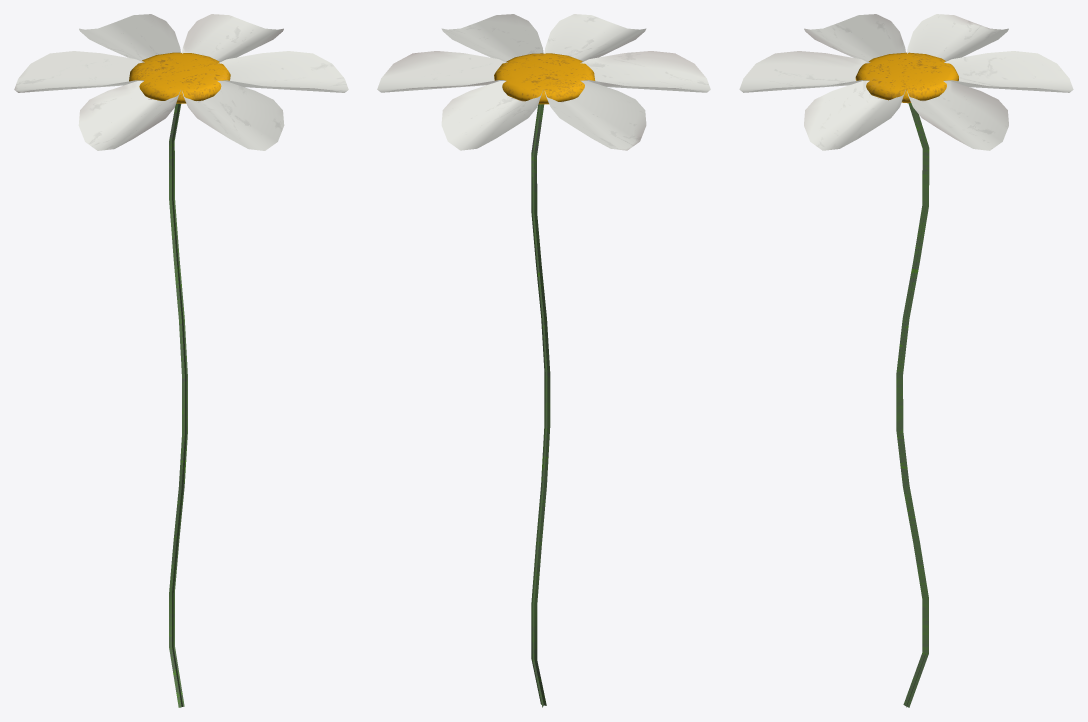
Rendered from bunga.fbx.
3 renders of one model, left to right at view 1: azimuth 30°, elevation 25°; view 2: azimuth 150°, elevation 25°; view 3: azimuth 270°, elevation 25°, orthographic.
Visible parts, largest first — view 1: Bunga; view 2: Bunga; view 3: Bunga.
Part boxes in pixels (x1,y1,x2,y2): Bunga: [14, 14, 348, 707]; Bunga: [377, 14, 710, 707]; Bunga: [739, 14, 1073, 707].
Size of the model in its own units: 0.3315 by 0.37 by 0.7797.
Materials: 2 (2 with a texture image).
